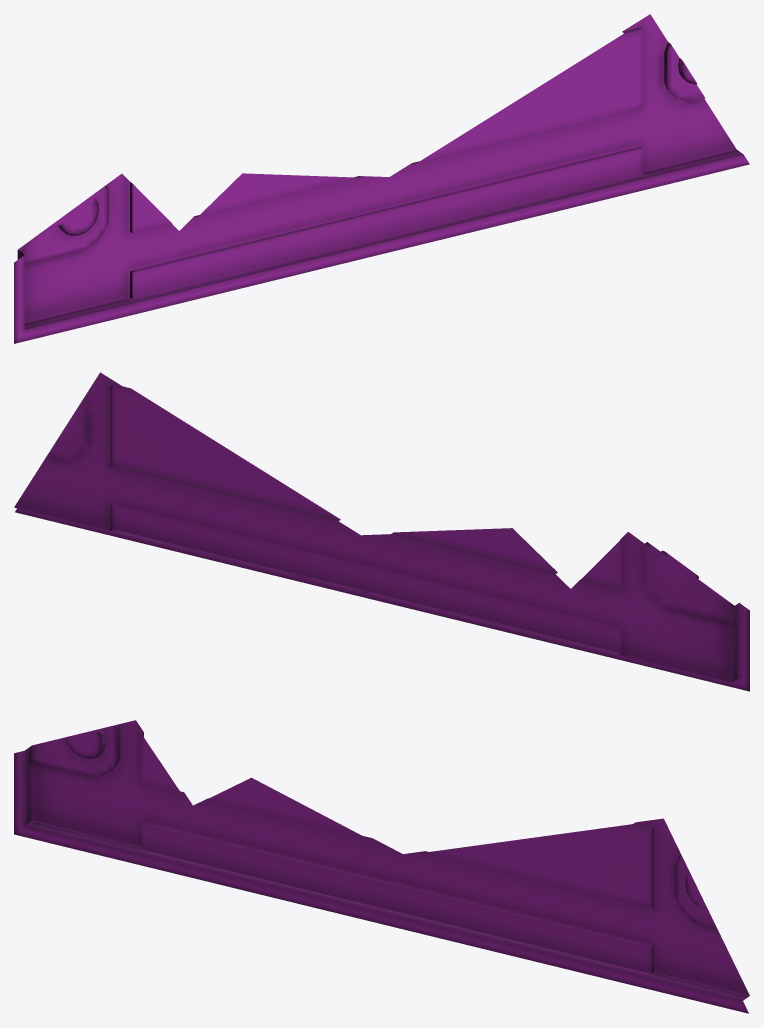
File: sc_finalBoss_slideDoorB_destroyed_A.FBX
3 renders of one model, top to bottom at view 1: azimuth 30°, elevation 25°; view 2: azimuth 150°, elevation 25°; view 3: azimuth 330°, elevation 25°, orthographic.
Parts seen in each view (by area): view 1: finalBoss_slideDoorB_destroyed_A; view 2: finalBoss_slideDoorB_destroyed_A; view 3: finalBoss_slideDoorB_destroyed_A.
Boxes of the visible parts, left/top/right/bottom form: finalBoss_slideDoorB_destroyed_A: left=14, top=14, right=749, bottom=343; finalBoss_slideDoorB_destroyed_A: left=14, top=372, right=749, bottom=691; finalBoss_slideDoorB_destroyed_A: left=14, top=720, right=749, bottom=1013.
Size of the model in its own units: 24.66 by 5.37 by 0.4074.
